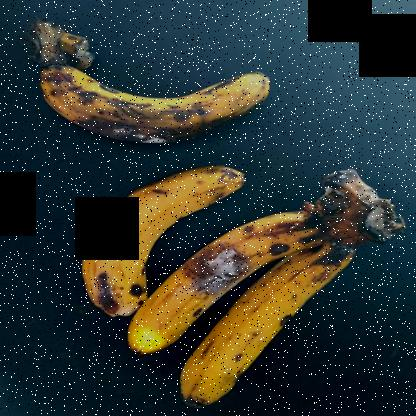overripe: (172, 243, 354, 415), (76, 157, 253, 333), (124, 207, 331, 356)
rotten: (27, 52, 272, 154)
